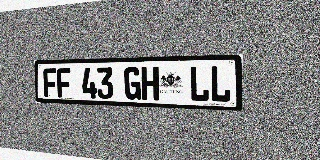3: (97, 67, 113, 99)
4: (82, 67, 97, 99)
F: (57, 68, 71, 98), (43, 68, 57, 97)
G: (124, 67, 141, 100)
H: (141, 66, 159, 100)
L: (210, 65, 231, 103), (189, 66, 209, 102)
